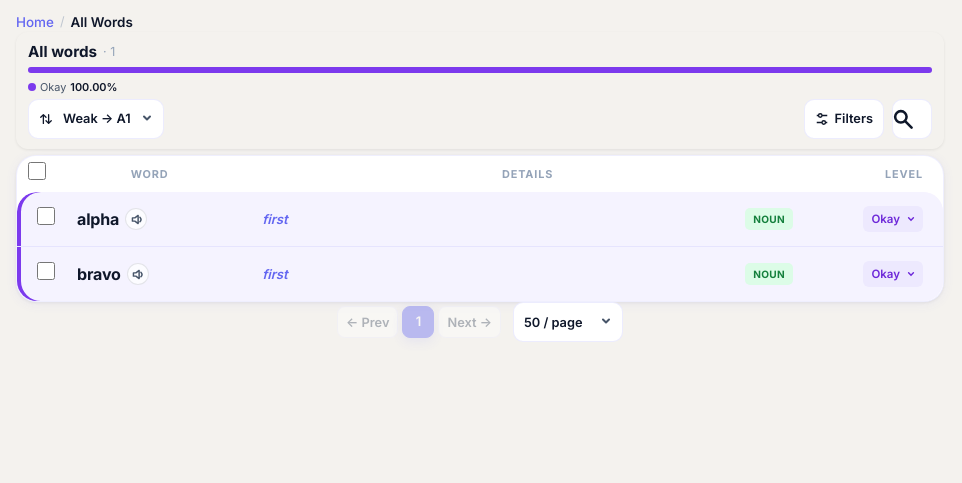
Scenario: keeps each word locked until its own rating save finishes (mobile=false)
Check: the number of rows with class "word-row" is 2, box [17,192,943,247]; [17,247,943,301]
Step 1. Click the button "Okay" in the row of "alpha" → (893, 219), box [863,206,923,232]
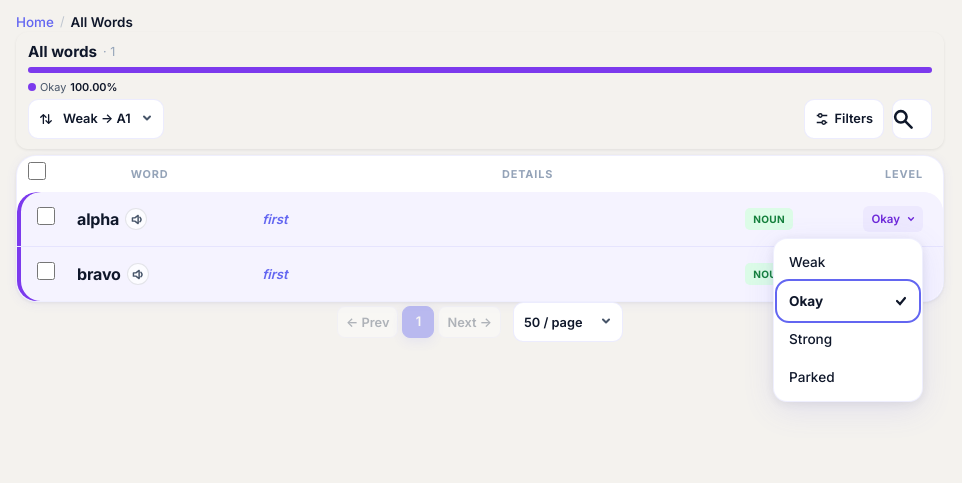
Step 2. Click the button "Strong" → (848, 339), box [779,321,917,358]
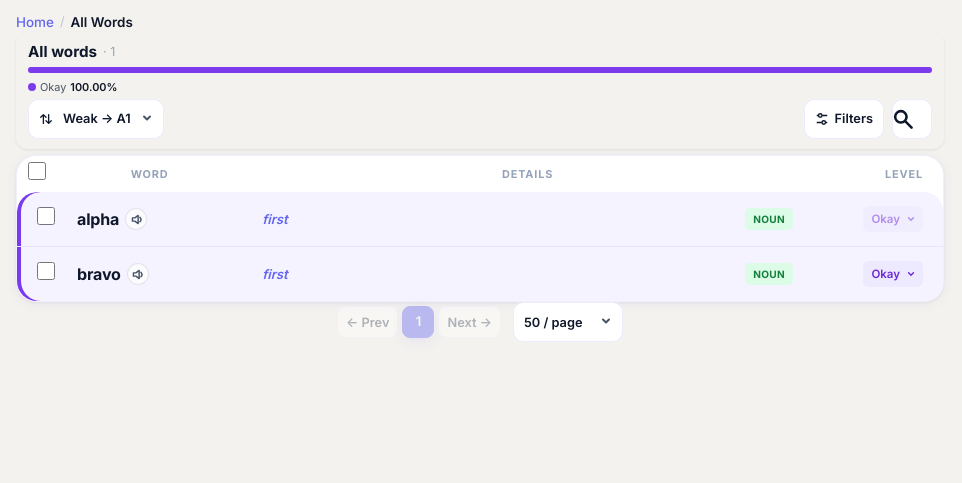
Step 3. Click the button "Okay" in the row of "bravo" → (893, 274), box [863,261,923,287]
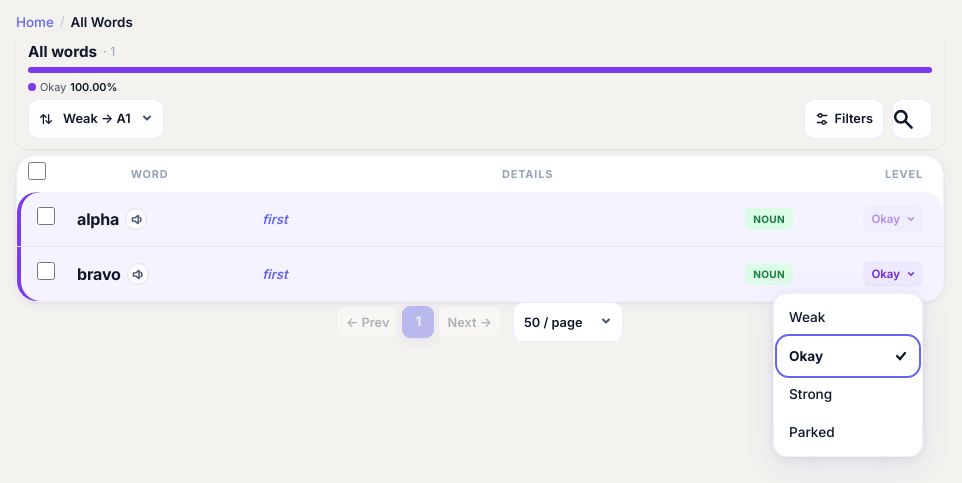
Step 4. Click the button "Strong" → (848, 394), box [779,376,917,412]
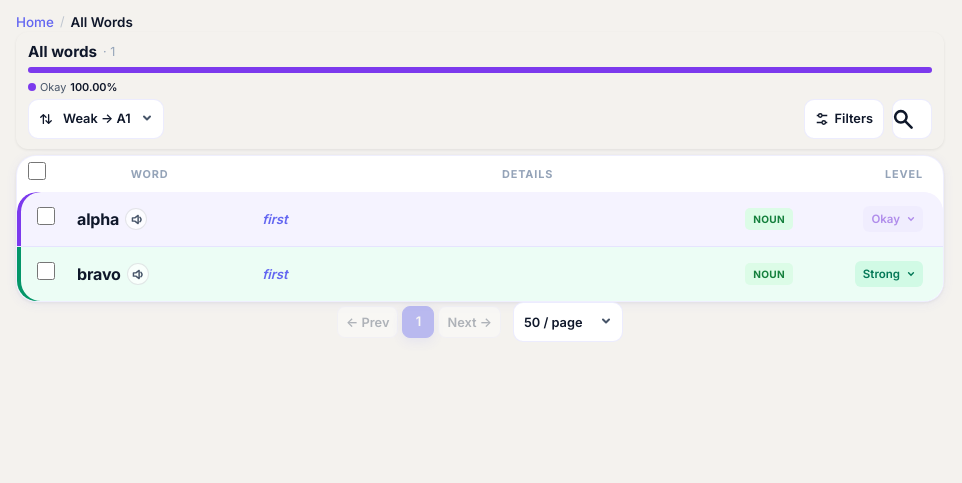
Check: the button "Strong" is enabled, box [855,261,923,287]
Check: the button "Okay" is disabled
Step 5. Click the button "Okay" → (893, 219), box [863,206,923,232]
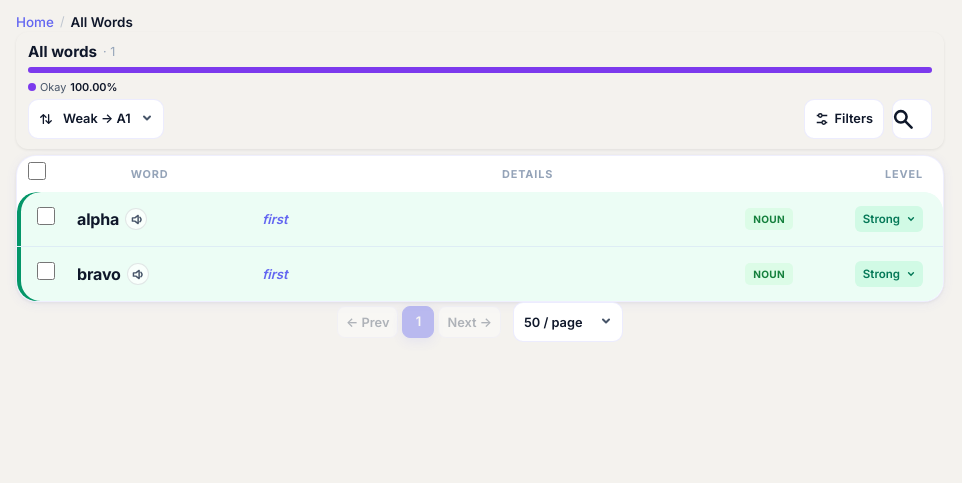
Check: the button "Strong" in the row of "alpha" is enabled, box [855,206,923,232]
